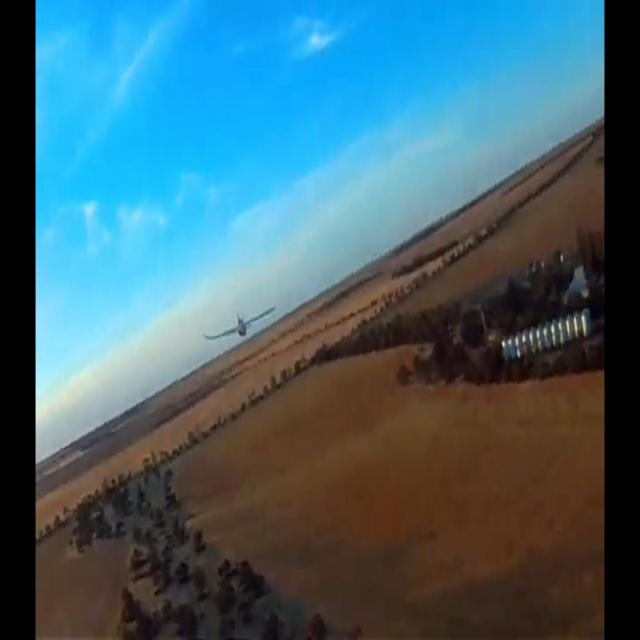iha: (237, 305, 242, 343)
